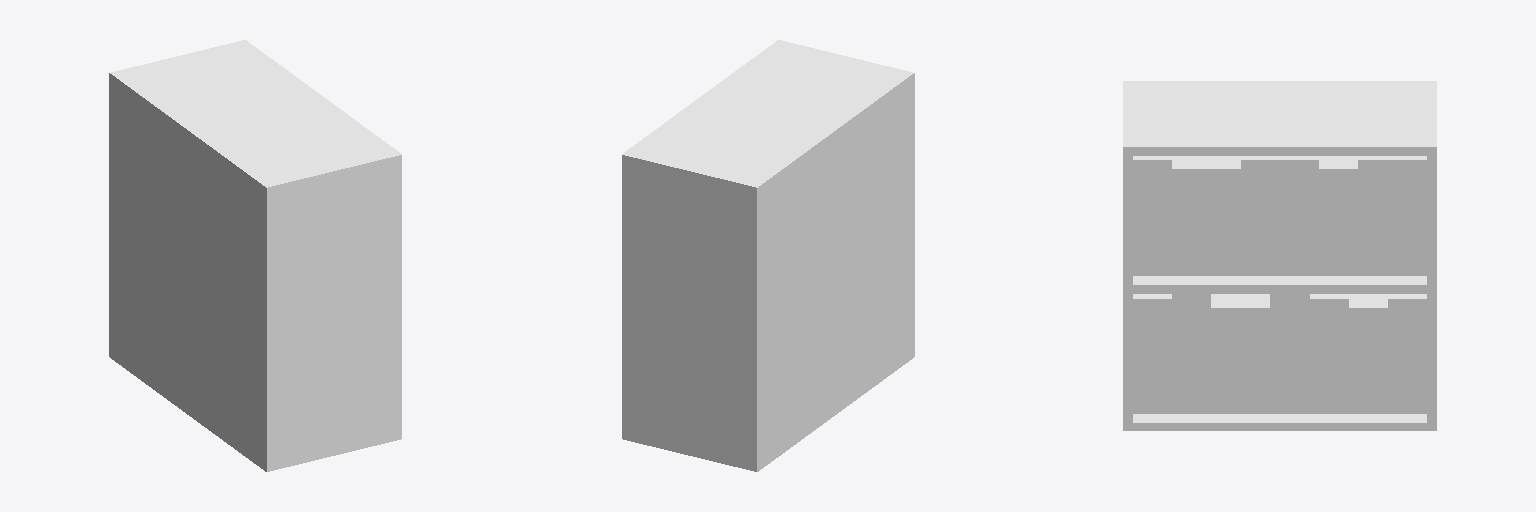
File: bookcase.obj
3 renders of one model, left to right at view 1: azimuth 30°, elevation 25°; view 2: azimuth 150°, elevation 25°; view 3: azimuth 270°, elevation 25°, orthographic.
Visible parts, largest first — view 1: bookcase; view 2: bookcase; view 3: bookcase, book13, book3, book9, book16, book5, book10, book8, book14, book6, book4, book15 (+5 smaller).
Part boxes in pixels (x1,y1,x2,y2): bookcase: (109,40,401,471); bookcase: (622,40,914,471); bookcase: (1123,81,1436,430); book13: (1270,294,1309,413); book3: (1201,156,1240,275); book9: (1133,294,1171,413); book16: (1388,294,1426,413); book5: (1280,156,1318,275); book10: (1172,294,1210,413); book8: (1388,156,1426,275); book14: (1310,294,1348,413); book6: (1319,156,1357,275); book4: (1241,156,1279,275); book15: (1349,294,1387,413).
Size of the model in its own units: 0.5001 by 1 by 1.